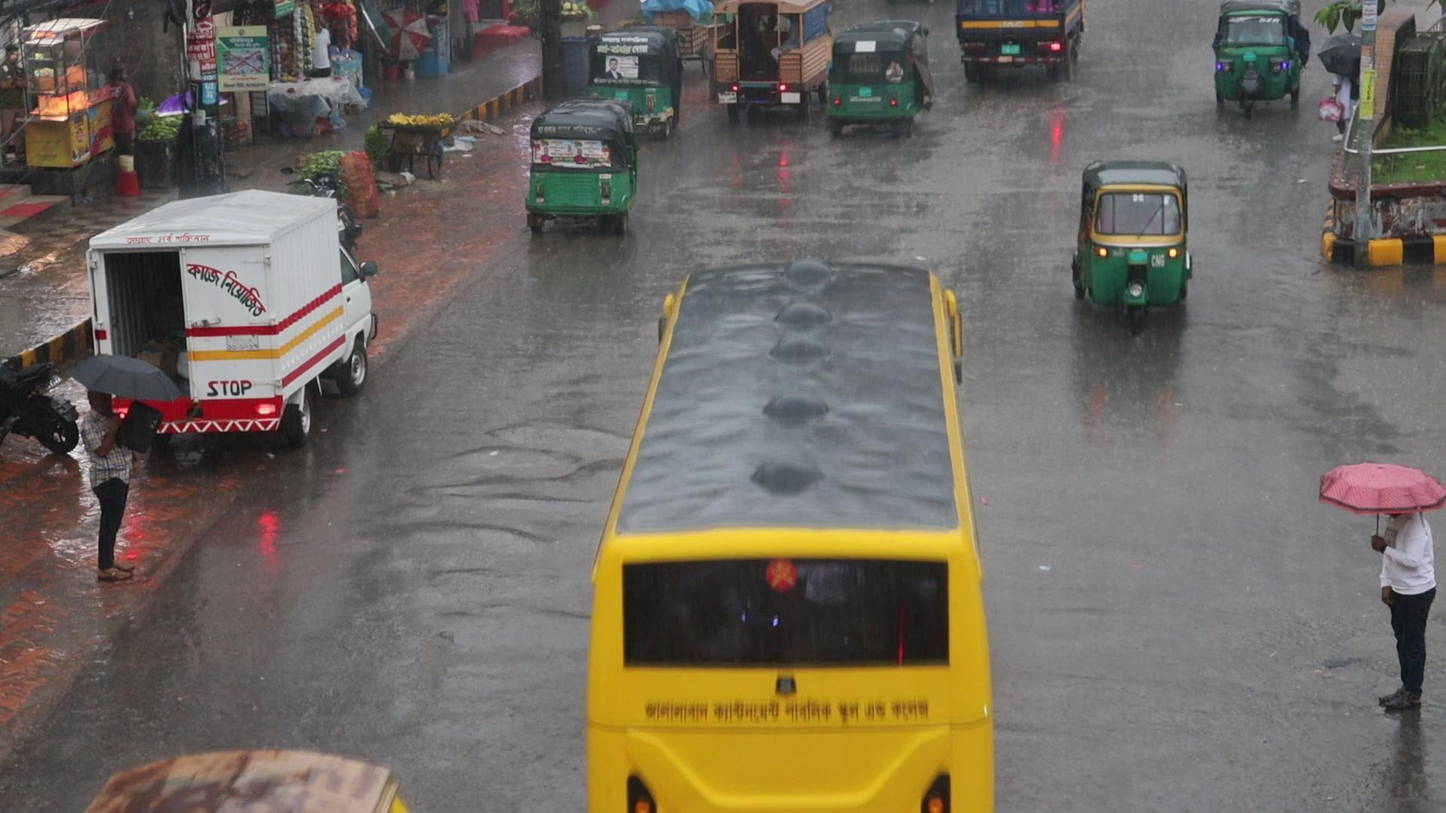Bus: (581, 248, 998, 813)
Truck: (711, 2, 825, 116)
